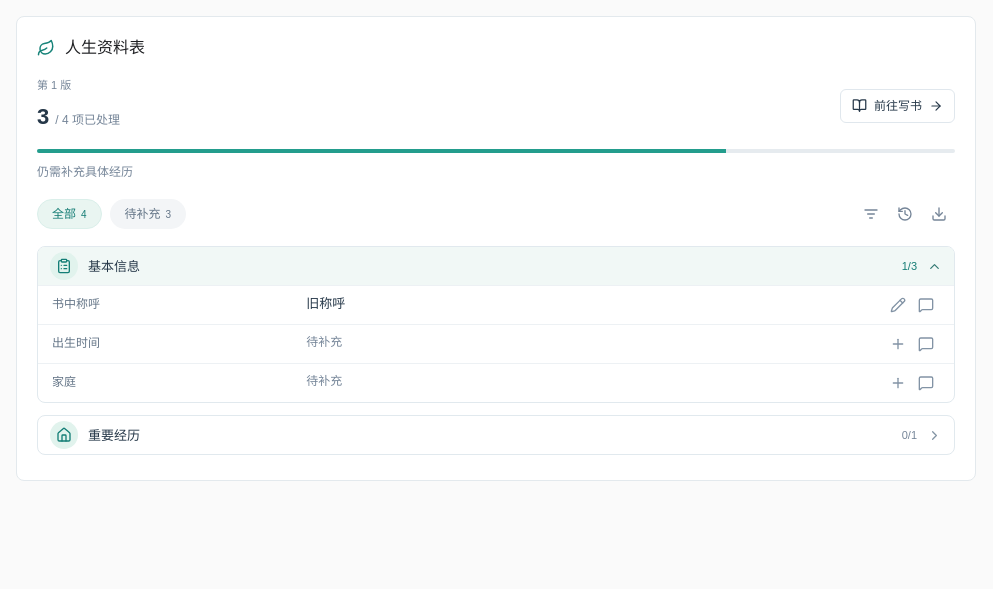
Test: editing a disputed or declined entry saves the corrected content and preserves its privacy
Click the button named "编辑资料". click: point(898, 305)
box: [884,291,912,319]
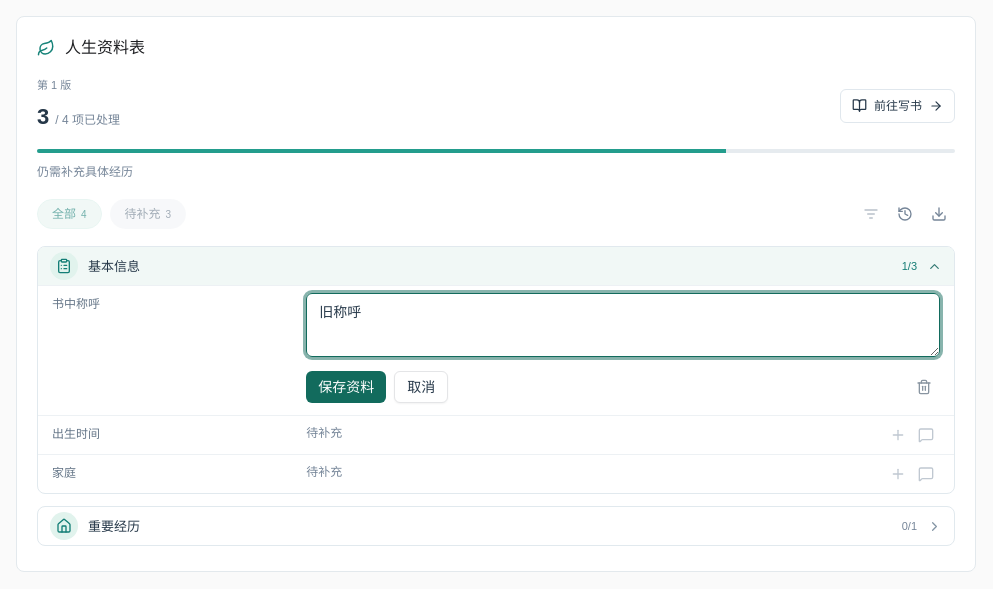
Expected: the element named "编辑书中称呼" is shown, [306,291,940,410]
Replace the text in the text box with "新称呼". click: point(623, 325)
box: [306,293,940,357]
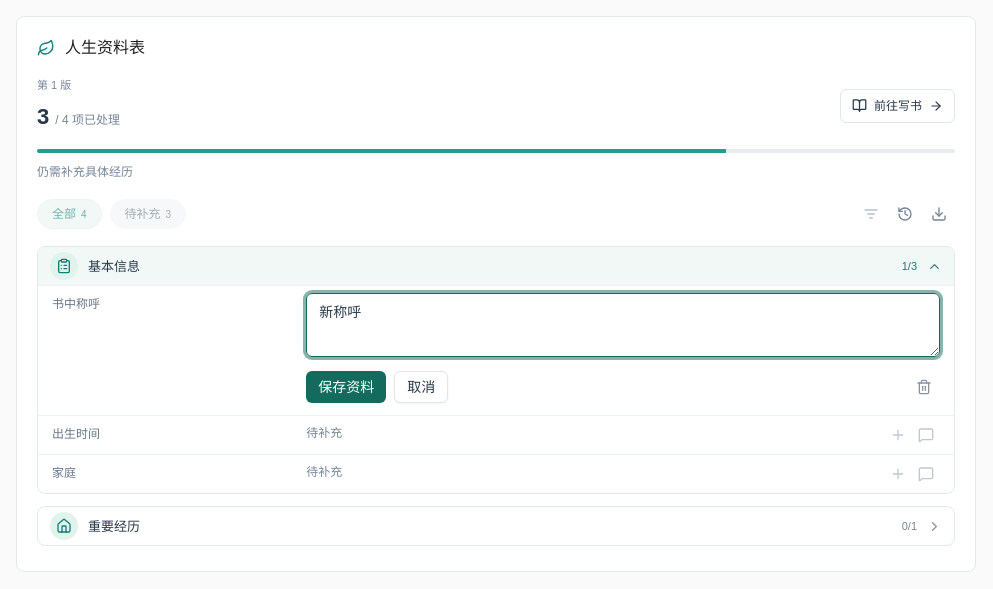
Click the button "保存资料". click: point(346, 387)
box: [306,371,386,403]
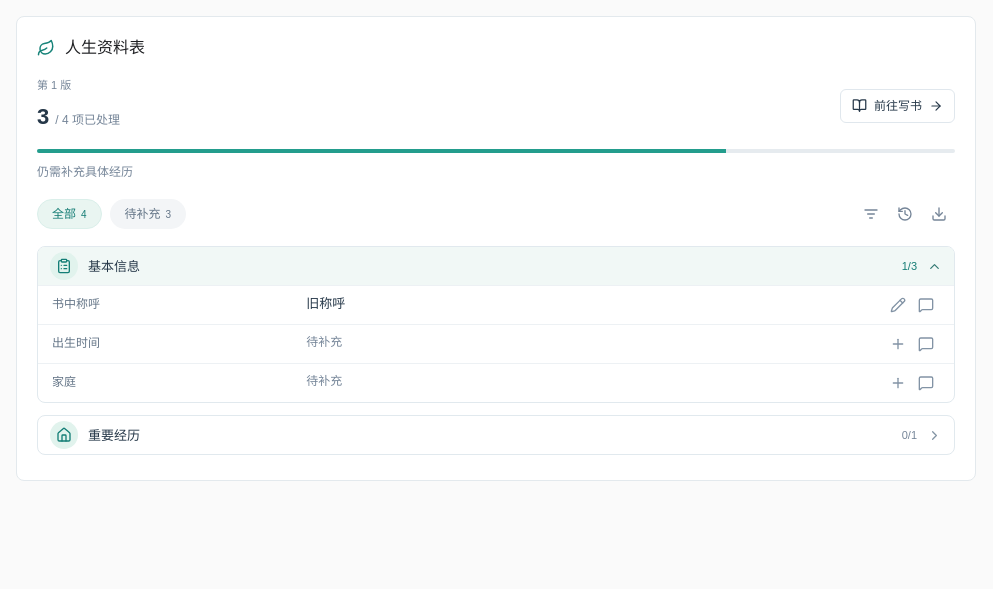
Result: the form is gone
